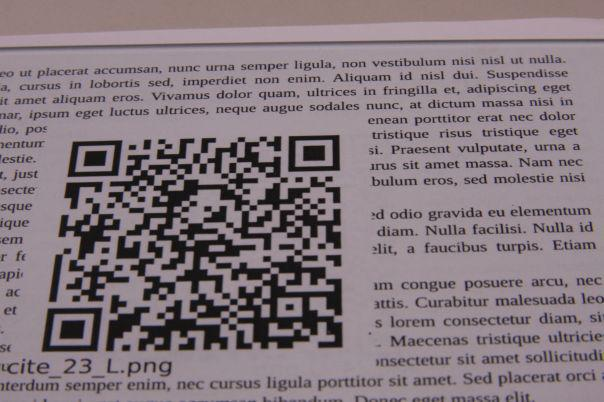Finder pattern: (39, 306, 108, 353), (283, 133, 348, 175), (66, 137, 125, 181)
